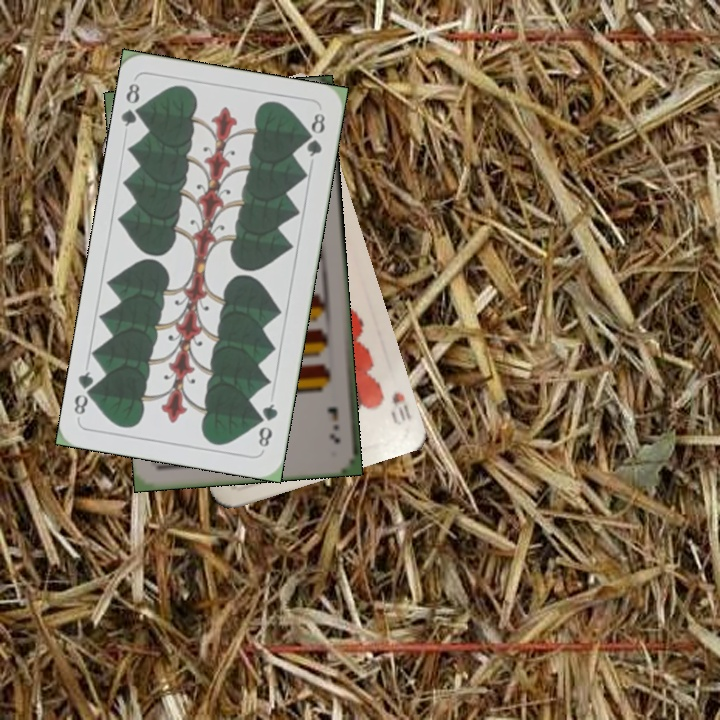E7: (323, 402, 343, 446)
G8: (118, 79, 148, 129), (254, 399, 280, 450)
H10: (386, 388, 414, 428)
